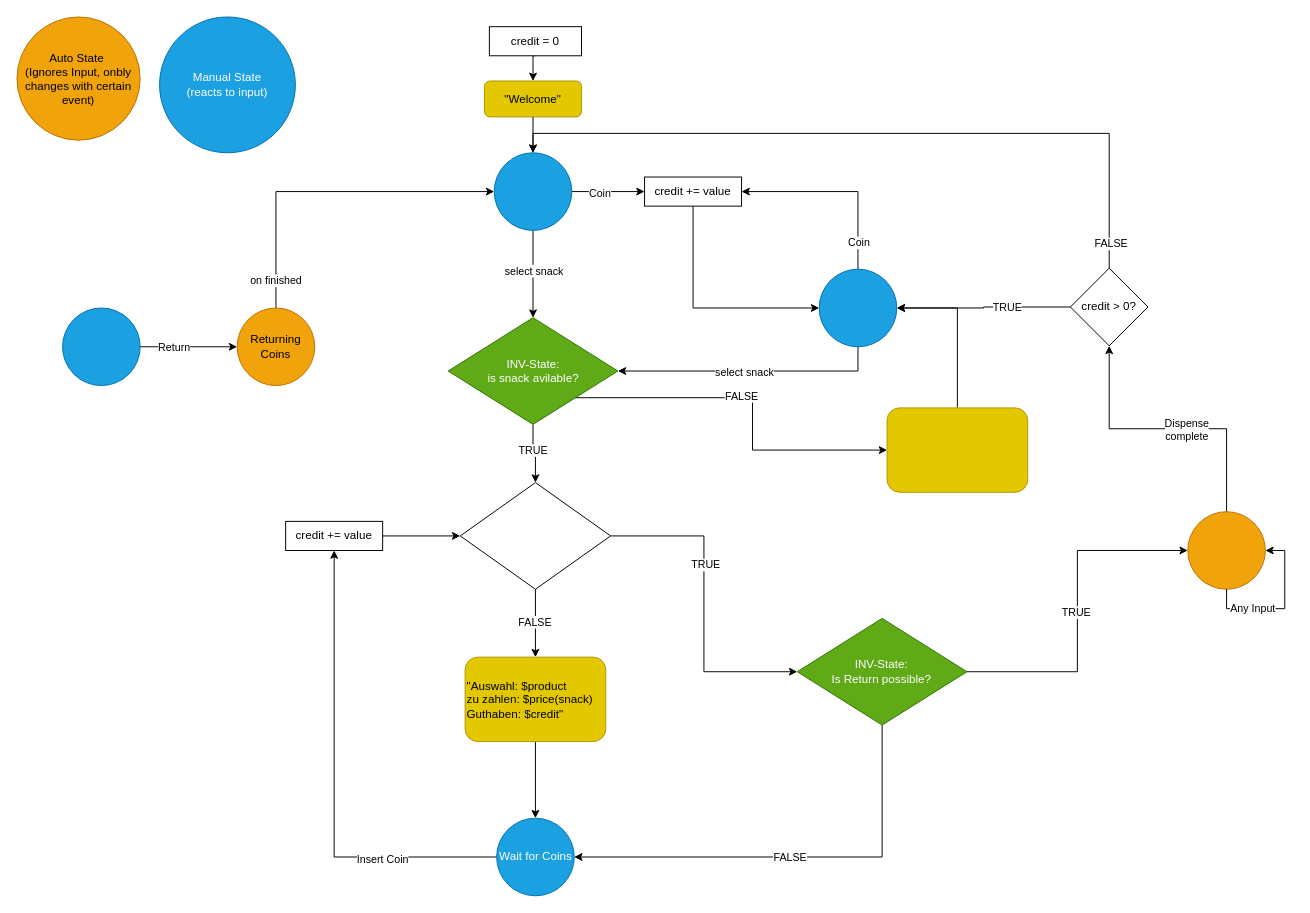
The diagram is 1310 pixels wide and 913 high, and some of its shapes have lost their labels. Here are the shapes that lost their labels. From the top down, the centre of each, then its label:
(532,191): init
(857,307): No Snack selected
(101,346): Any Manual
(957,449): "Nicht vorrätig, bitte wähle etwas anderes "
(535,535): credit >= price(snack)?
(1226,550): Dispensing
